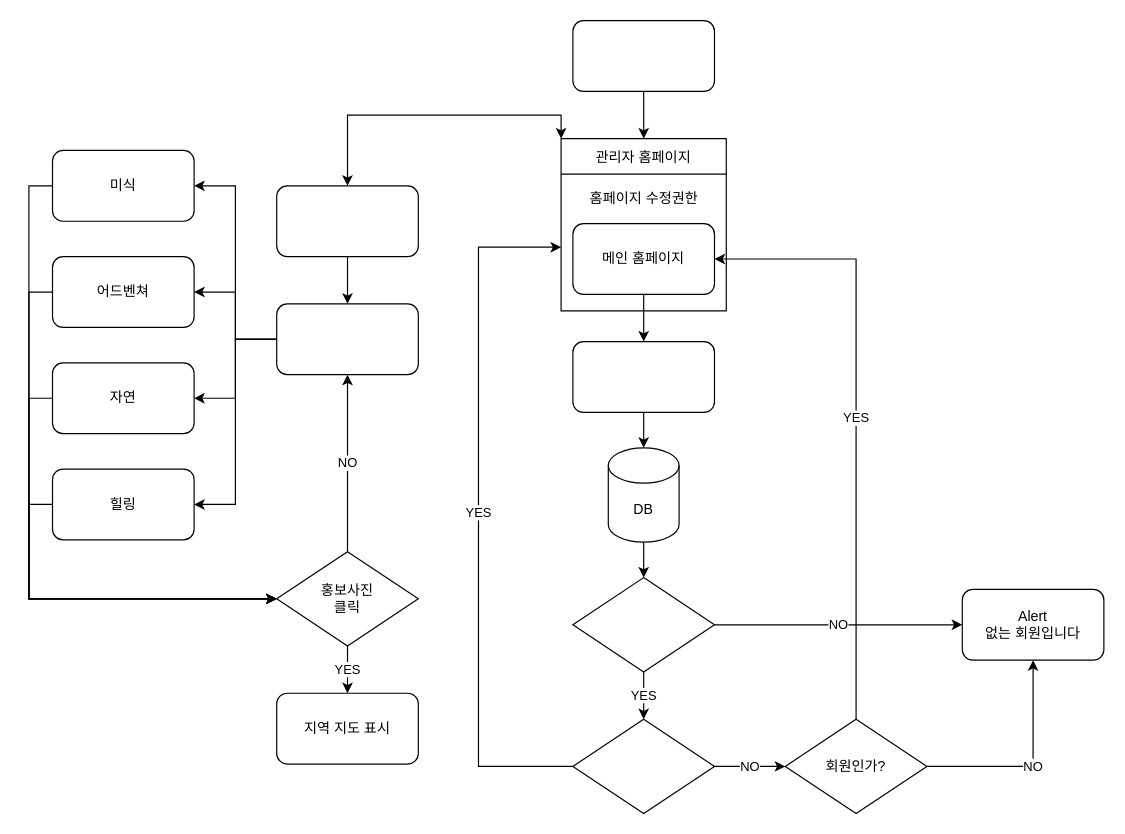
This 1125x834 diagram has some shape labels left out. Each missing label, with the centre of its shape:
DB에 있는가?: the point at 643,624
관리자인가?: the point at 643,766
로그인 페이지: the point at 643,376
서브 메뉴: the point at 347,339
지역 홈페이지: the point at 347,221
홈페이지 접속: the point at 643,55
